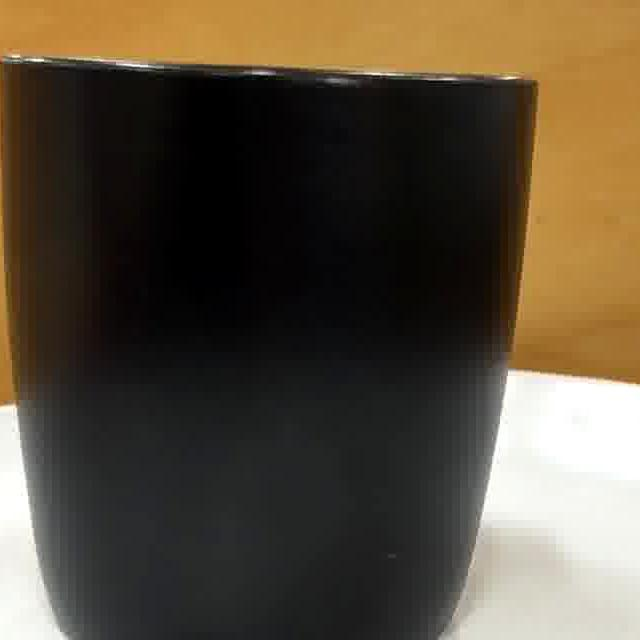cup: (6, 62, 534, 640)
